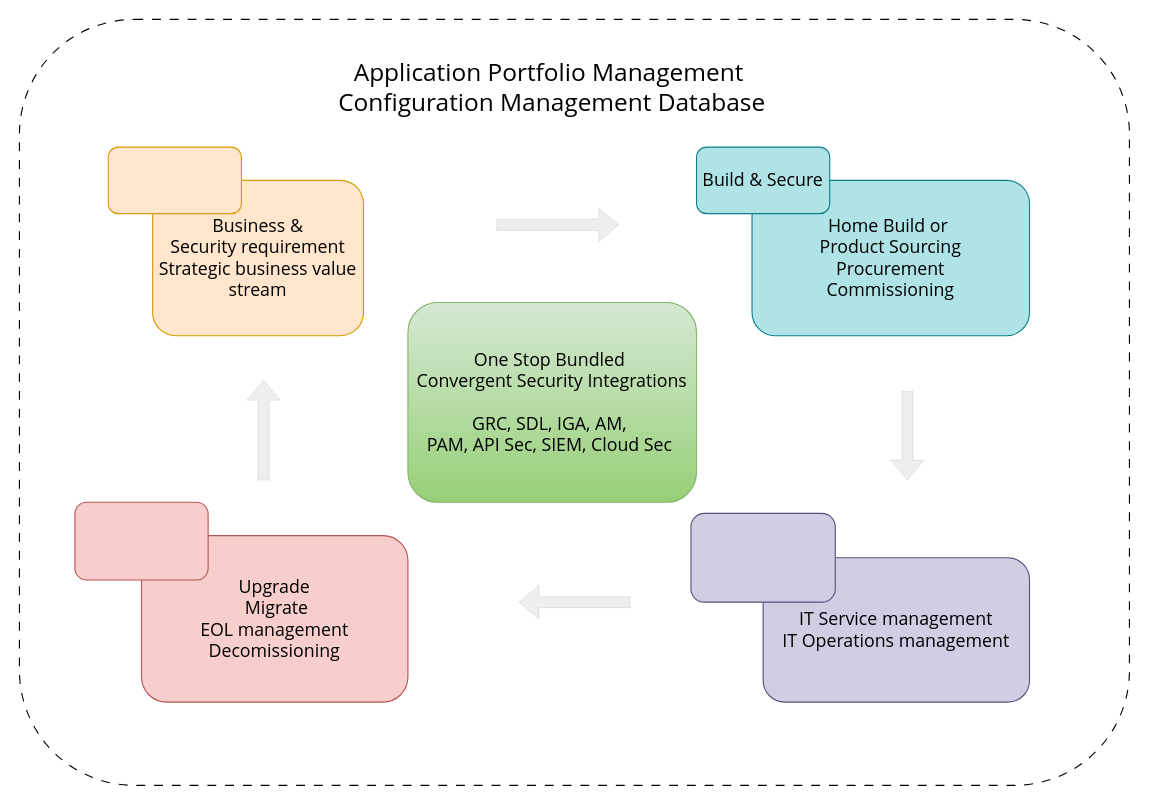
The diagram is 1149 pixels wide and 805 high, and some of its shapes have lost their labels. The centre of each missing label's shape, as x and y in pixels:
"Design & Align" goes at (174,180).
"Service & Operations management" goes at (762,557).
"Upgrade, Migrate, Decommission" goes at (141,540).
